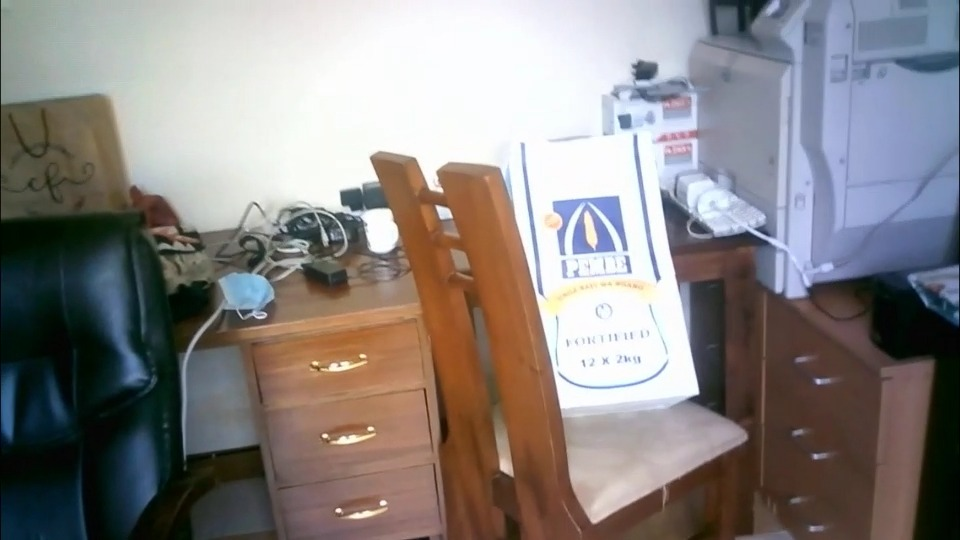wheat_flour_blue_label: (522, 128, 700, 420)
